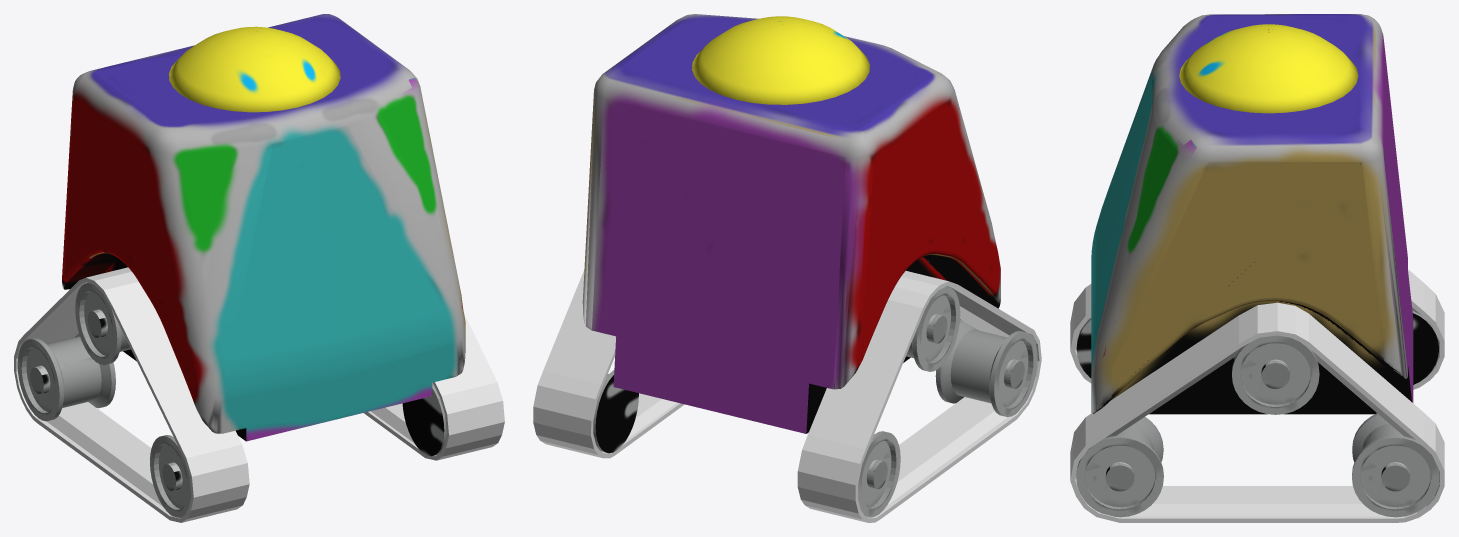
The model's file is robot2.fbx.
The picture shows the model from 3 angles, left to right: view 1: azimuth 30°, elevation 25°; view 2: azimuth 150°, elevation 25°; view 3: azimuth 270°, elevation 25°; orthographic projection. The views are drawn at different scales.
Parts seen in each view (by area): view 1: Body, Gear.001, Head, Gear, Wheel.005, Wheel.003, Wheel.004, Wheel.001; view 2: Body, Gear.001, Head, Gear, Wheel.004, Wheel.003, Wheel.005, Wheel; view 3: Body, Gear, Head, Wheel, Wheel.001, Wheel.002, Gear.001, Wheel.005, Wheel.004.
Part boxes in pixels (box(x1,y1,x2,y2)): Body: box(62, 14, 465, 441); Gear.001: box(14, 267, 249, 522); Head: box(169, 26, 340, 112); Gear: box(364, 314, 504, 460); Wheel.005: box(17, 333, 115, 421); Wheel.003: box(75, 283, 130, 365); Wheel.004: box(150, 435, 191, 517); Wheel.001: box(402, 383, 446, 456); Body: box(582, 14, 1000, 433); Gear.001: box(797, 271, 1041, 522); Head: box(692, 16, 869, 104); Gear: box(533, 270, 684, 458); Wheel.004: box(935, 319, 1037, 417); Wheel.003: box(906, 286, 960, 371); Wheel.005: box(858, 431, 900, 517); Wheel: box(593, 370, 638, 453); Body: box(1091, 14, 1413, 414); Gear: box(1070, 302, 1444, 522); Head: box(1179, 24, 1358, 113); Wheel: box(1352, 413, 1439, 517); Wheel.001: box(1076, 417, 1163, 517); Wheel.002: box(1232, 335, 1319, 414); Gear.001: box(1070, 269, 1444, 389); Wheel.005: box(1412, 310, 1439, 384); Wheel.004: box(1076, 318, 1091, 377).
Bounding box in the file's own units: 233 × 281 × 233.
8 materials, 8 textured.
